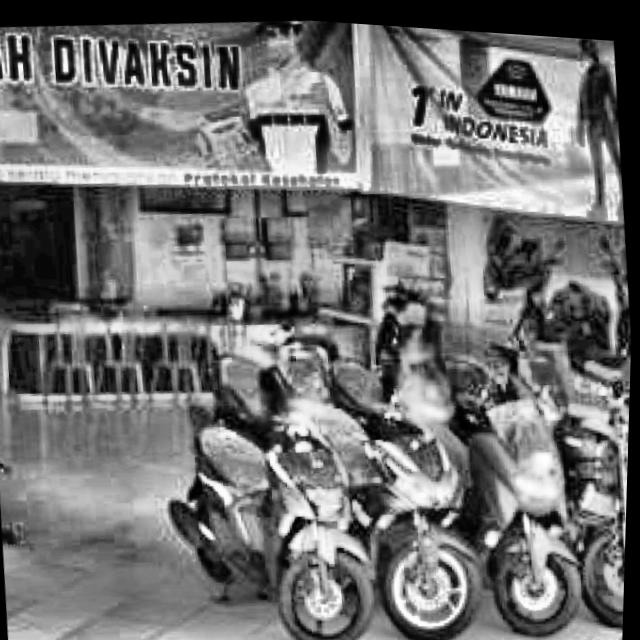motorcycle: (168, 399, 385, 640), (347, 370, 503, 636), (470, 365, 598, 638), (192, 325, 360, 447), (567, 373, 632, 619)
